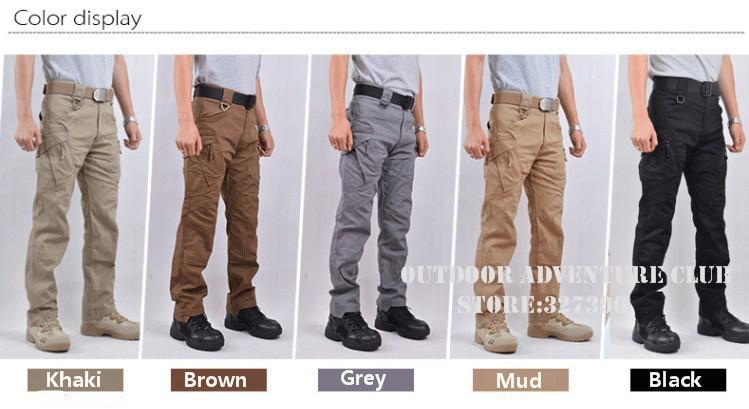pants: (629, 79, 736, 311), (166, 88, 262, 321), (24, 87, 120, 314), (323, 91, 420, 315), (479, 100, 564, 320)
